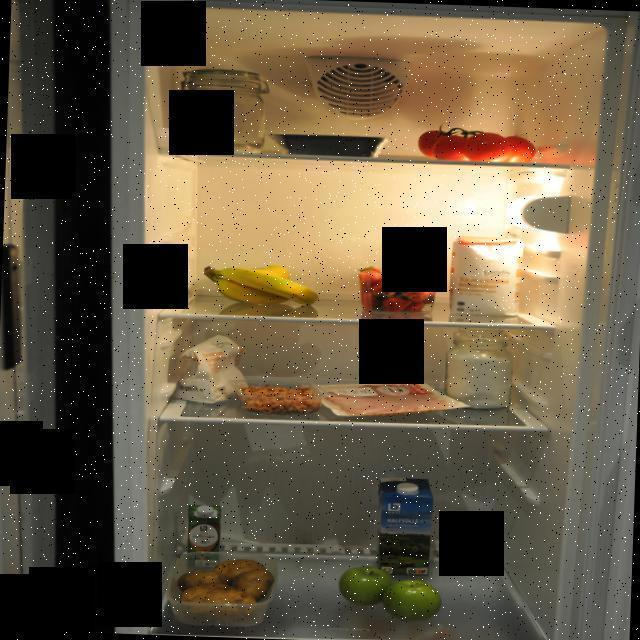apple: (338, 560, 453, 624)
banana: (200, 261, 324, 306)
flour: (164, 62, 276, 156), (172, 334, 250, 404)
ham: (306, 376, 472, 420)
heavy_cream: (185, 503, 221, 568)
milk: (374, 476, 441, 577)
potato: (168, 548, 280, 630)
shrimp: (240, 384, 323, 414)
strawberries: (351, 262, 442, 317)
sugar: (447, 235, 524, 317), (443, 323, 515, 410)
tomato: (409, 118, 542, 166)
